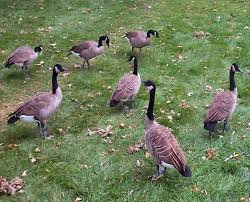goose: (141, 78, 192, 183), (6, 63, 68, 141), (200, 62, 243, 137), (106, 56, 143, 113), (1, 44, 45, 82), (65, 34, 111, 69), (121, 28, 161, 58)
